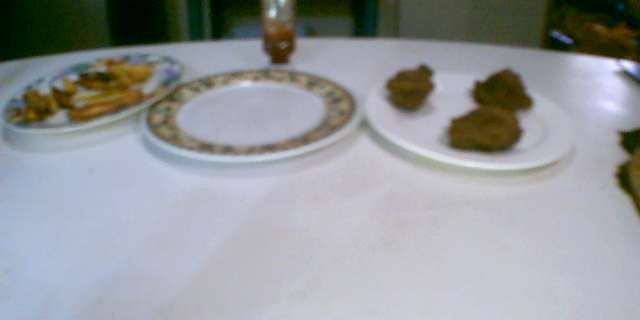chicken: (439, 103, 525, 155), (466, 67, 535, 114), (382, 60, 439, 116)
empty_plate: (139, 64, 365, 169)
ketchup_bottle: (248, 1, 303, 70)
potatoe_fries: (14, 58, 146, 124)
